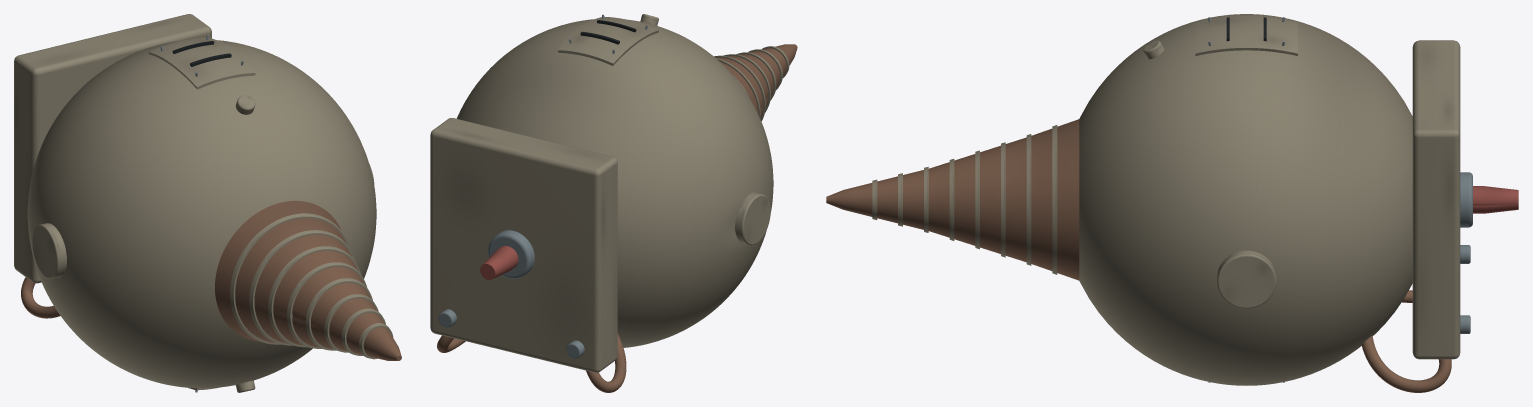
3 views of the same model, side by side, from view 1: azimuth 30°, elevation 25°; view 2: azimuth 150°, elevation 25°; view 3: azimuth 270°, elevation 25° (orthographic). The views are drawn at different scales.
Parts seen in each view (by area): view 1: Deflector spherical shell, Deflector ribbed taper, Deflector rear bracket, Deflector service cover 1, Deflector side boss 1, Deflector taper rib 7, Deflector taper rib 6, Deflector taper rib 5, Deflector taper rib 4, Deflector rear conduit 0, Deflector taper rib 3, Deflector taper rib 2 (+1 smaller); view 2: Deflector spherical shell, Deflector rear bracket, Deflector service cover 1, Deflector ribbed taper, Deflector side boss 1, Deflector rear pin socket, Deflector red rear pin, Deflector rear conduit 0, Deflector rear conduit 1; view 3: Deflector spherical shell, Deflector ribbed taper, Deflector rear bracket, Deflector service cover 1, Deflector side boss 0, Deflector rear conduit 1, Deflector red rear pin, Deflector taper rib 7, Deflector taper rib 6, Deflector rear pin socket.
Part boxes in pixels (x1=…): Deflector spherical shell: x1=27, y1=40, x2=376, y2=388; Deflector ribbed taper: x1=215, y1=200, x2=401, y2=360; Deflector rear bracket: x1=14, y1=14, x2=211, y2=283; Deflector service cover 1: x1=148, y1=37, x2=255, y2=89; Deflector side boss 1: x1=32, y1=223, x2=66, y2=278; Deflector taper rib 7: x1=230, y1=213, x2=350, y2=344; Deflector taper rib 6: x1=249, y1=230, x2=355, y2=345; Deflector taper rib 5: x1=268, y1=246, x2=361, y2=347; Deflector taper rib 4: x1=287, y1=262, x2=367, y2=348; Deflector rear conduit 0: x1=21, y1=277, x2=60, y2=318; Deflector taper rib 3: x1=305, y1=278, x2=372, y2=350; Deflector taper rib 2: x1=324, y1=294, x2=378, y2=352; Deflector spherical shell: x1=457, y1=19, x2=773, y2=347; Deflector rear bracket: x1=430, y1=118, x2=617, y2=372; Deflector service cover 1: x1=558, y1=16, x2=658, y2=65; Deflector ribbed taper: x1=715, y1=44, x2=797, y2=118; Deflector side boss 1: x1=735, y1=192, x2=770, y2=245; Deflector rear pin socket: x1=488, y1=230, x2=534, y2=278; Deflector red rear pin: x1=480, y1=245, x2=518, y2=280; Deflector rear conduit 0: x1=586, y1=333, x2=626, y2=392; Deflector rear conduit 1: x1=437, y1=335, x2=465, y2=352; Deflector spherical shell: x1=1079, y1=14, x2=1412, y2=385; Deflector ribbed taper: x1=826, y1=119, x2=1079, y2=280; Deflector rear bracket: x1=1412, y1=40, x2=1460, y2=359; Deflector service cover 1: x1=1195, y1=16, x2=1297, y2=55; Deflector side boss 0: x1=1217, y1=250, x2=1276, y2=308; Deflector rear conduit 1: x1=1361, y1=335, x2=1451, y2=392; Deflector red rear pin: x1=1473, y1=186, x2=1518, y2=213; Deflector taper rib 7: x1=1052, y1=125, x2=1057, y2=274; Deflector taper rib 6: x1=1026, y1=134, x2=1031, y2=265; Deflector rear pin socket: x1=1460, y1=172, x2=1472, y2=227.
Bounding box in the file's own units: 0.9884 × 0.9679 × 1.75.
Materials: 5 (3 with a texture image).
